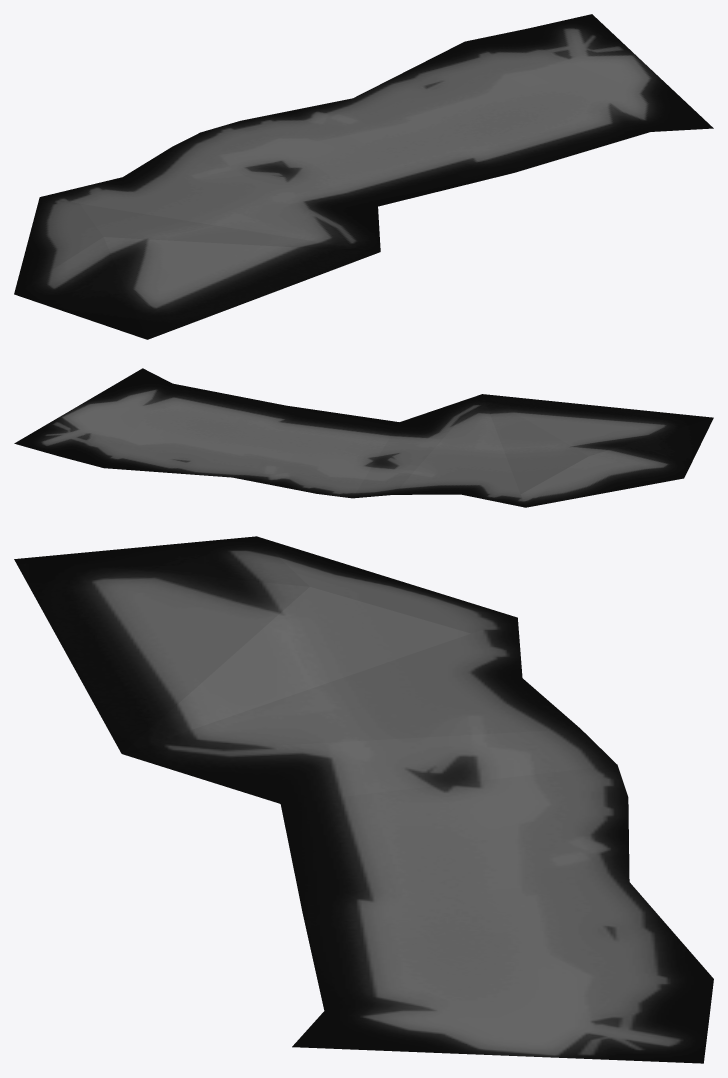
File: Bf_hill_landscacp_01_addRunnis_04_shadow.fbx
3 renders of one model, top to bottom at view 1: azimuth 30°, elevation 25°; view 2: azimuth 150°, elevation 25°; view 3: azimuth 270°, elevation 25°, orthographic. The views are drawn at different scales.
Parts seen in each view (by area): view 1: Bf_hill_landscacp_01_addRunnis_04_shadow; view 2: Bf_hill_landscacp_01_addRunnis_04_shadow; view 3: Bf_hill_landscacp_01_addRunnis_04_shadow.
Part boxes in pixels (x1,y1,x2,y2): Bf_hill_landscacp_01_addRunnis_04_shadow: [14, 14, 713, 339]; Bf_hill_landscacp_01_addRunnis_04_shadow: [14, 368, 713, 507]; Bf_hill_landscacp_01_addRunnis_04_shadow: [14, 536, 713, 1063].
Bounding box in the file's own units: 117 × 5.18 × 68.88.
1 material, 1 textured.
